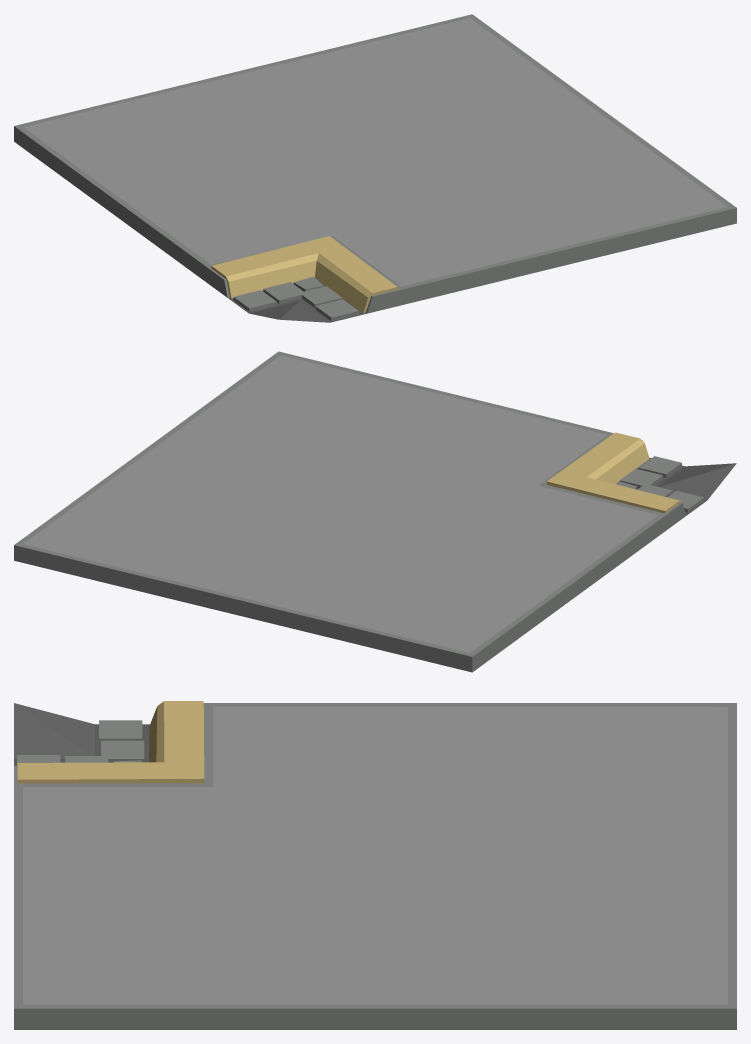
The model's file is SM_sidewalk_01_cornerIn.glb.
3 views of the same model, one above another, from view 1: azimuth 30°, elevation 25°; view 2: azimuth 150°, elevation 25°; view 3: azimuth 270°, elevation 25° (orthographic). The views are drawn at different scales.
Parts seen in each view (by area): view 1: SM_sidewalk_01_cornerIn; view 2: SM_sidewalk_01_cornerIn; view 3: SM_sidewalk_01_cornerIn.
Boxes of the visible parts, x1=… form: SM_sidewalk_01_cornerIn: x1=14, y1=14, x2=736, y2=322; SM_sidewalk_01_cornerIn: x1=14, y1=351, x2=736, y2=672; SM_sidewalk_01_cornerIn: x1=14, y1=701, x2=736, y2=1029.
Bounding box in the file's own units: 4 × 0.1582 × 4.
Materials: 1 (1 with a texture image).
